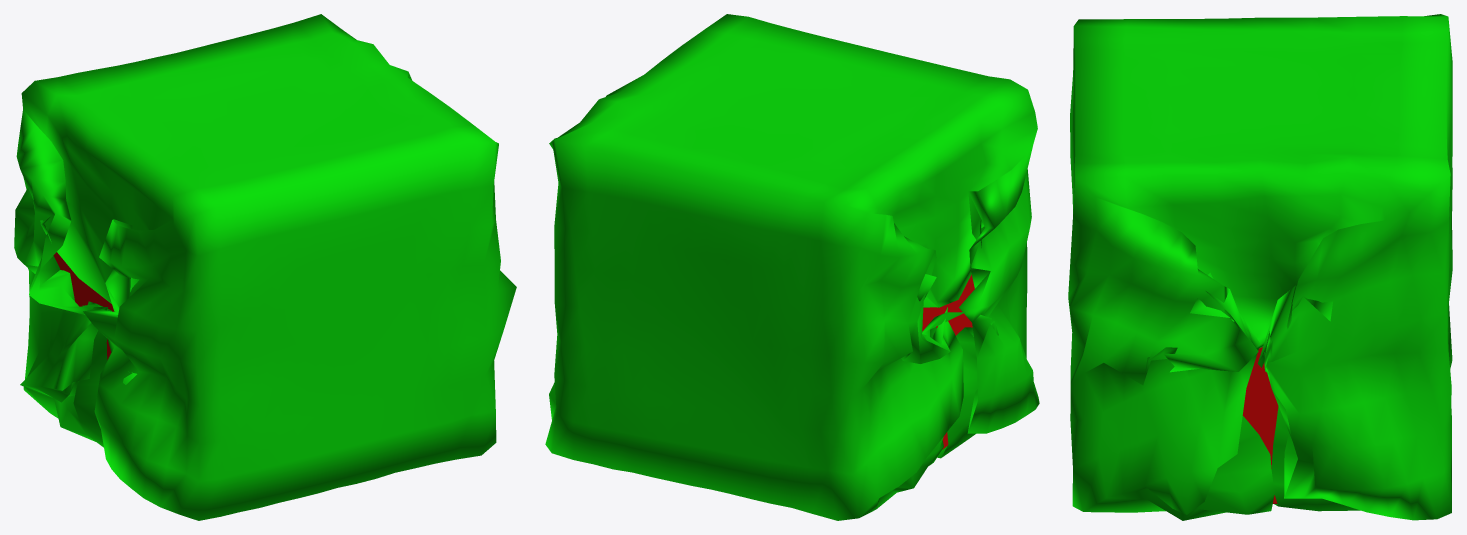
Rendered from 8closedcrate.fbx.
3 renders of one model, left to right at view 1: azimuth 30°, elevation 25°; view 2: azimuth 150°, elevation 25°; view 3: azimuth 270°, elevation 25°, orthographic. The views are drawn at different scales.
Visible parts, largest first — view 1: Cube.018; view 2: Cube.018; view 3: Cube.018.
Boxes of the visible parts, bbox=[...] form: Cube.018: bbox=[14, 14, 516, 520]; Cube.018: bbox=[545, 14, 1039, 520]; Cube.018: bbox=[1068, 14, 1452, 520].
Bounding box in the file's own units: 274 × 214 × 214.
